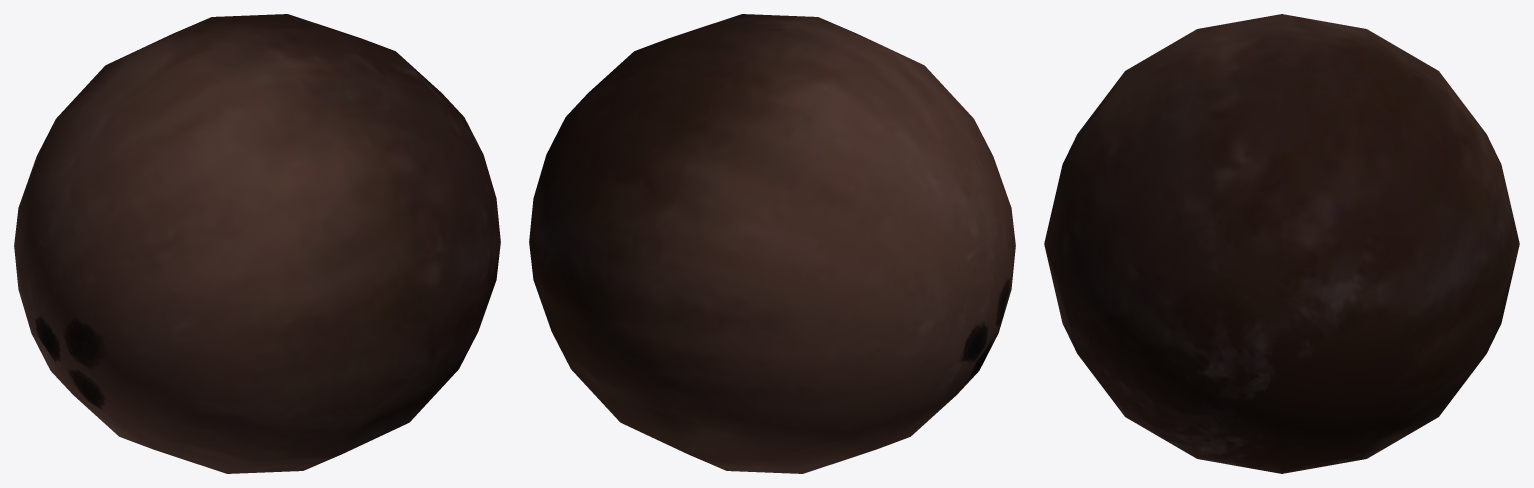
The model's file is coconut.glb.
The picture shows the model from 3 angles, left to right: view 1: azimuth 30°, elevation 25°; view 2: azimuth 150°, elevation 25°; view 3: azimuth 270°, elevation 25°; orthographic projection.
Parts seen in each view (by area): view 1: Coconut; view 2: Coconut; view 3: Coconut.
Boxes of the visible parts, x1=… form: Coconut: x1=14, y1=14, x2=500, y2=473; Coconut: x1=529, y1=14, x2=1015, y2=473; Coconut: x1=1044, y1=14, x2=1519, y2=473.
Size of the model in its own units: 1.25 by 1.17 by 1.22.
Materials: 1 (1 with a texture image).
